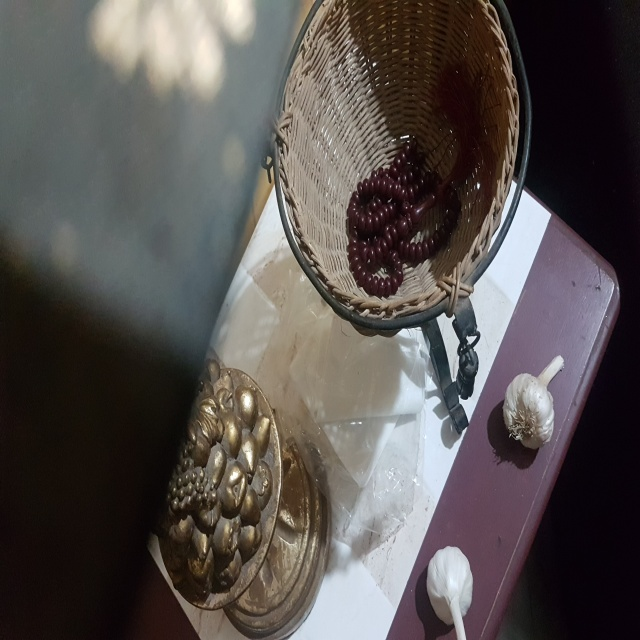garlic: (496, 356, 573, 450), (423, 543, 477, 638)
